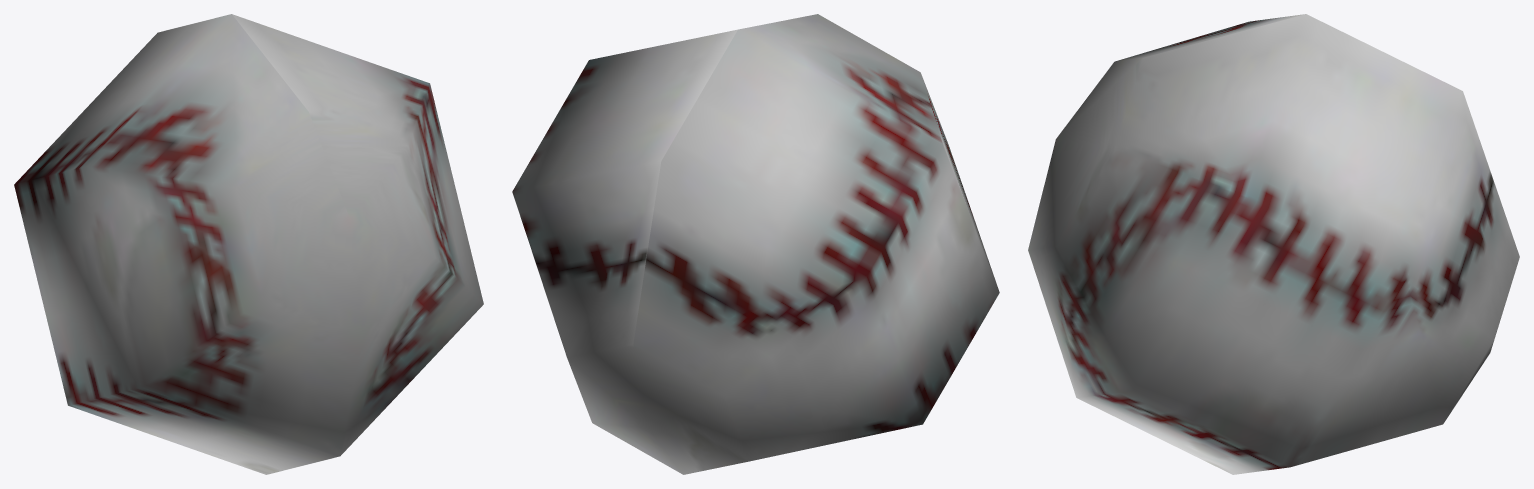
Rendered from Skill_Mike_01_02_cde16078__Skill_Mike_01_01_3430e61a_c1f257.obj.
The picture shows the model from 3 angles, left to right: view 1: azimuth 30°, elevation 25°; view 2: azimuth 150°, elevation 25°; view 3: azimuth 270°, elevation 25°; orthographic projection. The views are drawn at different scales.
Bounding box in the file's own units: 0.2272 × 0.2764 × 0.2673.
1 material, 1 textured.
